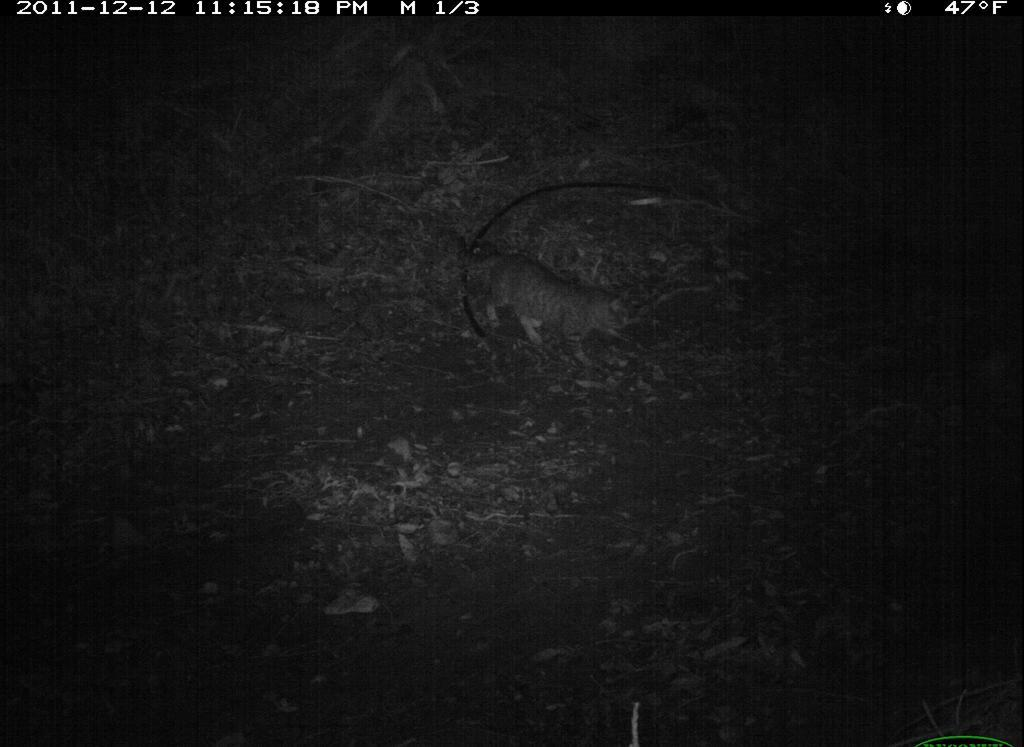cat: (454, 233, 638, 369)
